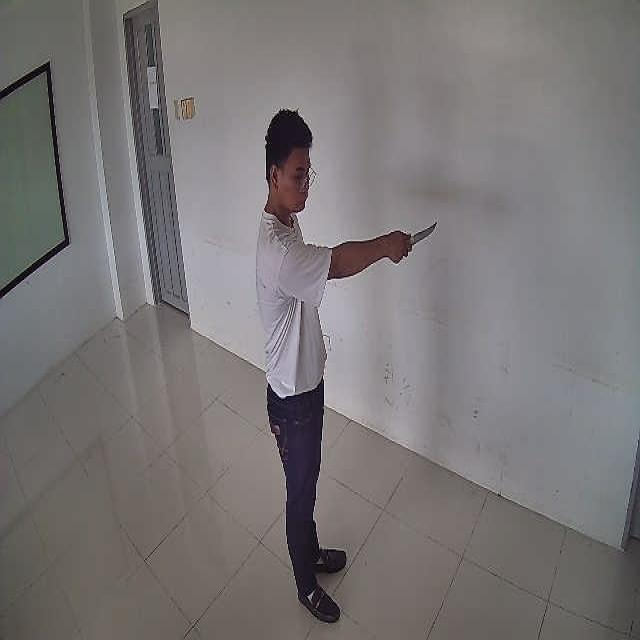knife: (411, 220, 438, 245)
